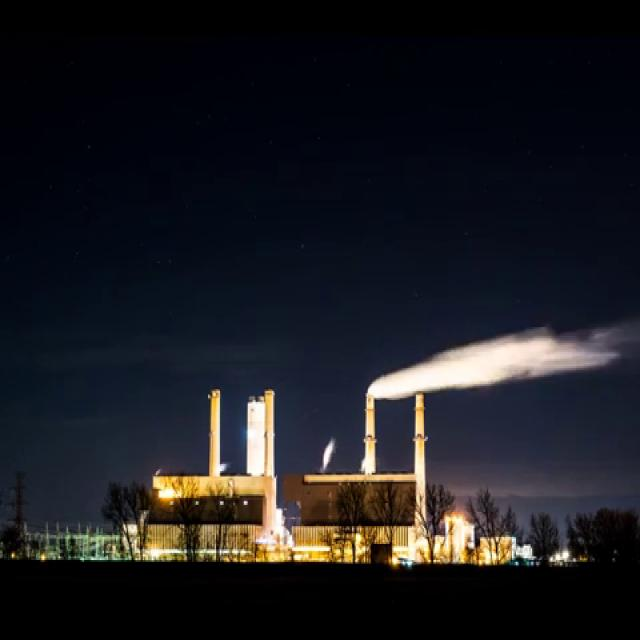smoke: (368, 320, 640, 404), (308, 436, 353, 482)
